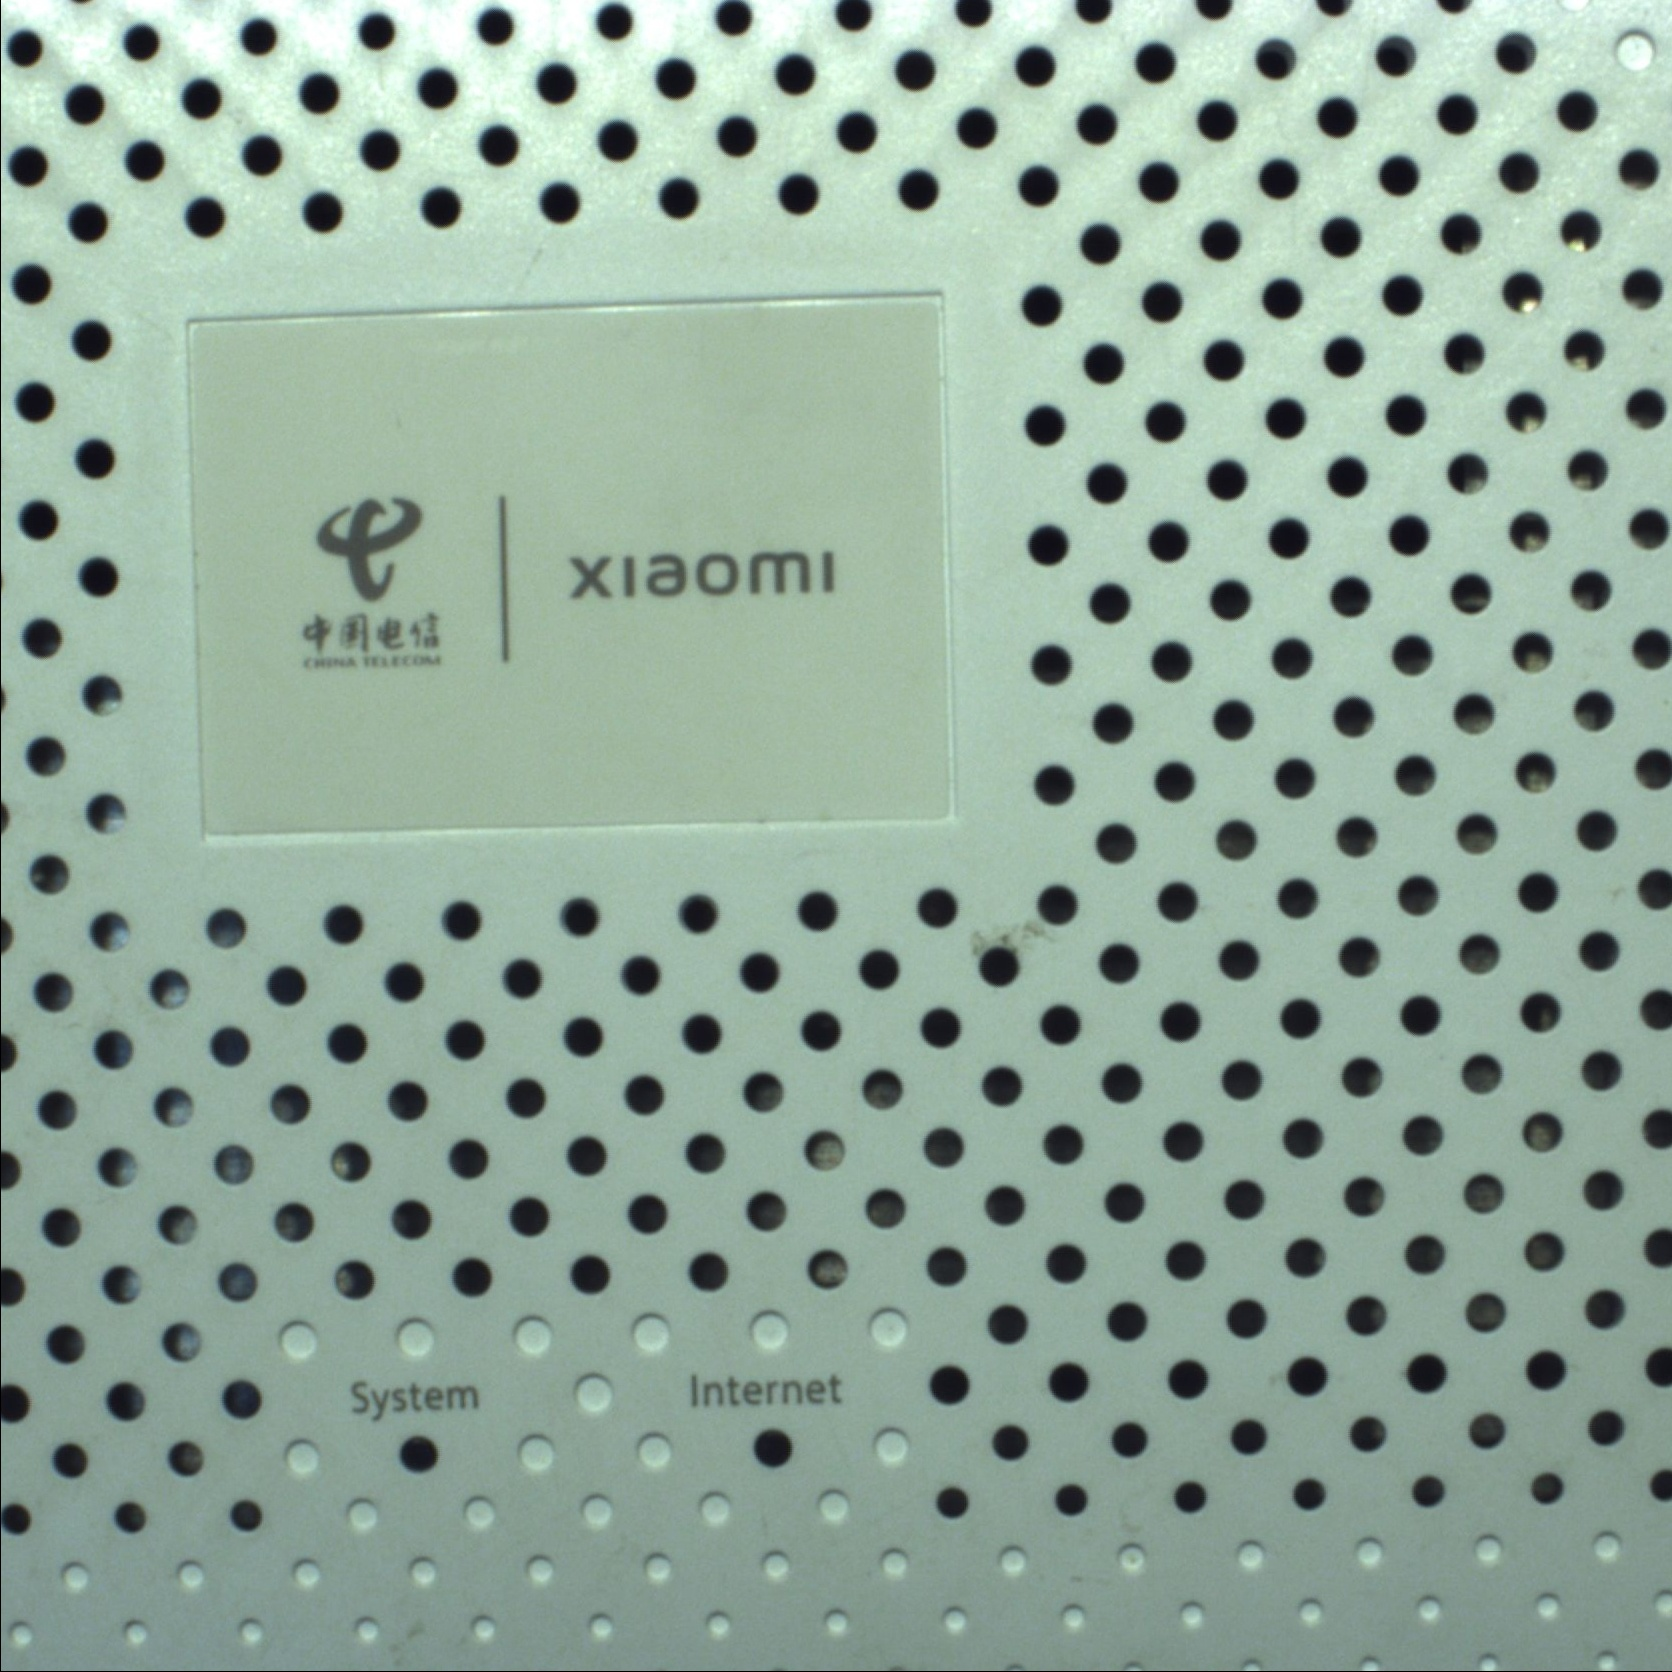MAA_Telecom: (282, 487, 854, 687)
